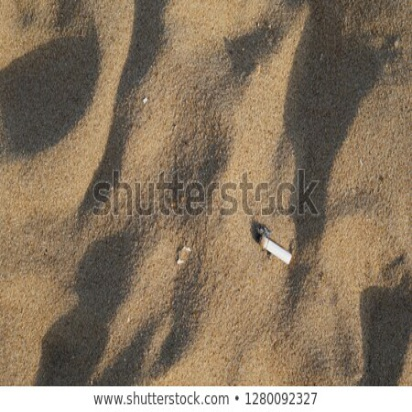cigarette: (255, 233, 300, 273)
